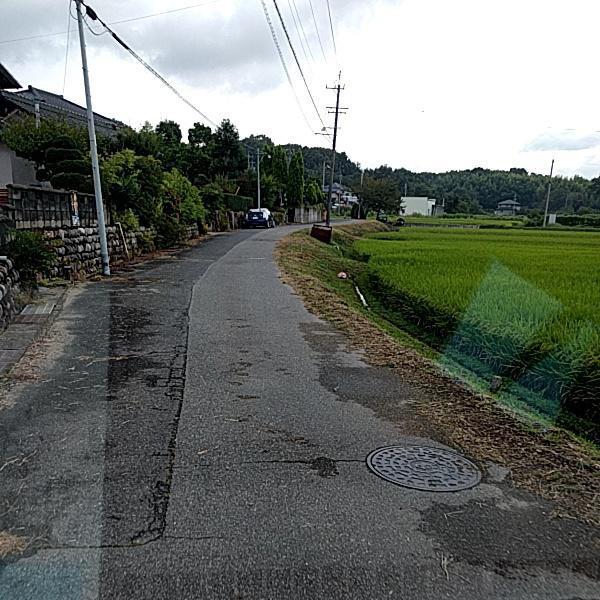D10: (178, 449, 369, 474), (156, 525, 231, 548)
D20: (153, 336, 190, 404)
D50: (359, 436, 487, 497)
